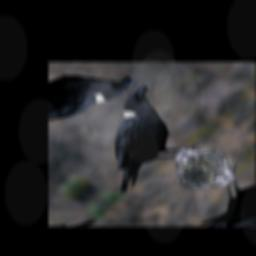Crow: (62, 80, 221, 205)
